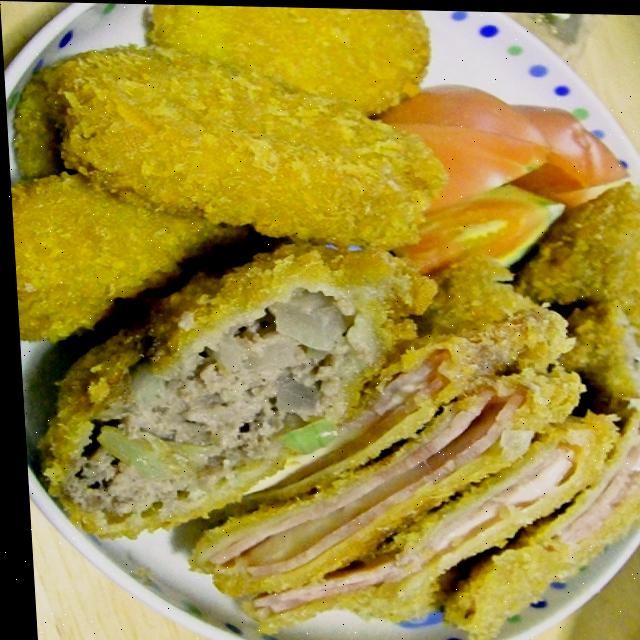炸货点心: (9, 18, 640, 637)
